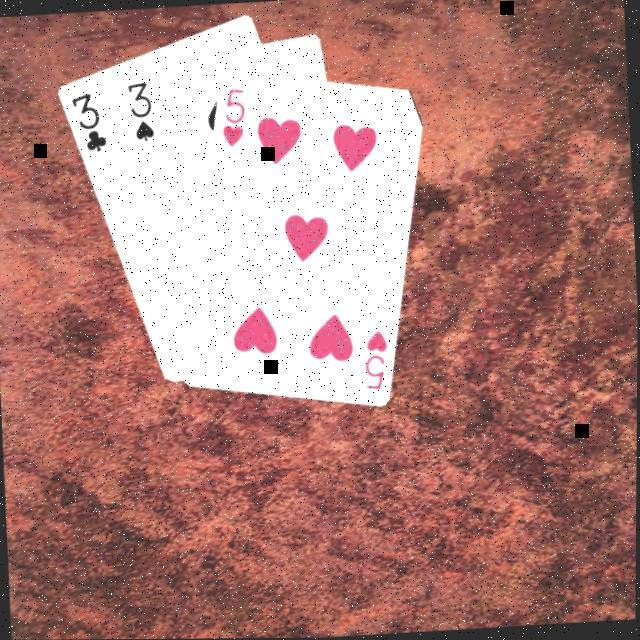3C: (66, 89, 109, 157)
3S: (122, 78, 156, 146)
5H: (359, 327, 392, 394), (216, 86, 249, 152)
